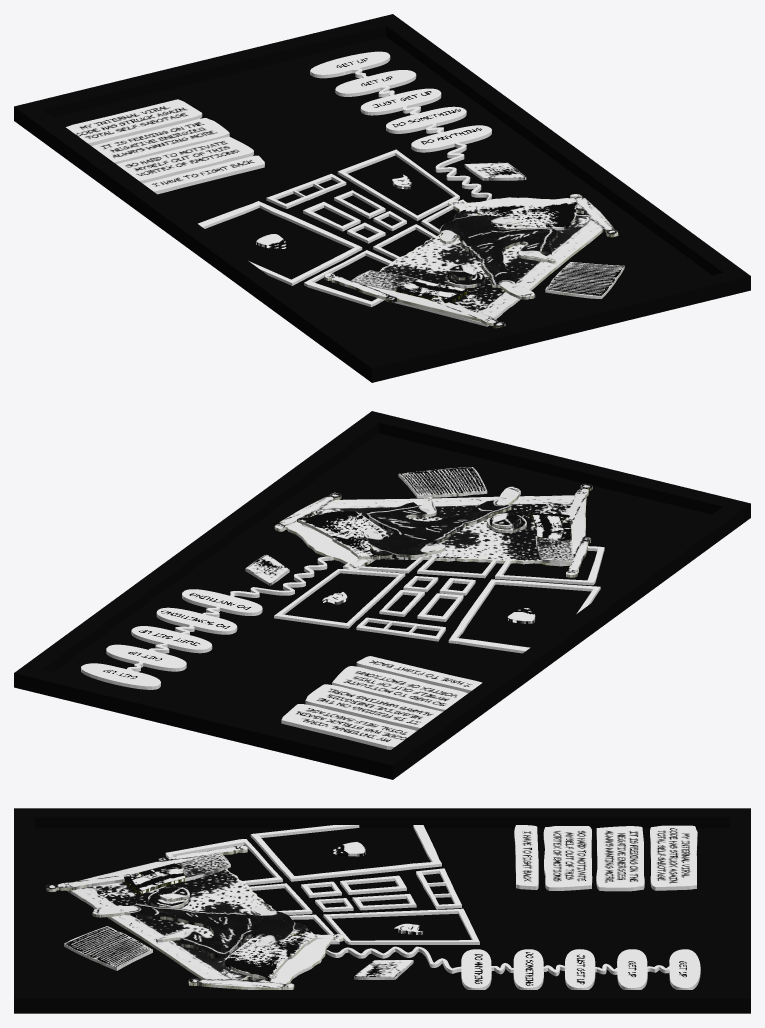
Rendered from Bed.fbx.
The picture shows the model from 3 angles, top to bottom: view 1: azimuth 30°, elevation 25°; view 2: azimuth 150°, elevation 25°; view 3: azimuth 270°, elevation 25°; orthographic projection. The views are drawn at different scales.
Parts seen in each view (by area): view 1: Background, Top Frame, Plane.007, Plane.011, Plane.012, Curve.001, Plane.004, Plane.001, Plane.005, Plane.003, Plane.008, Curve.004 (+6 smaller); view 2: Background, Top Frame, Plane.007, Plane.011, Plane.012, Curve.001, Plane.004, Plane.001, Plane.003, Plane.005, Plane.008, Curve.003 (+6 smaller); view 3: Background, Top Frame, Plane.007, Plane.011, Plane.012, Plane.004, Curve.001, Plane.001, Plane.003, Plane.005, Plane.008, Plane.010 (+8 smaller).
Boxes of the visible parts, x1,y1,x2,y2 form: Background: (14,36,750,382); Top Frame: (14,14,750,379); Plane.007: (379,194,618,326); Plane.011: (198,149,466,306); Plane.012: (69,101,256,188); Curve.001: (310,51,491,200); Plane.004: (439,211,557,299); Plane.001: (321,56,485,145); Plane.005: (545,262,624,298); Plane.003: (460,202,577,230); Plane.008: (324,273,505,328); Curve.004: (117,136,253,183); Background: (14,433,750,779); Top Frame: (14,411,750,776); Plane.007: (274,492,586,570); Plane.011: (274,546,604,653); Plane.012: (288,659,476,744); Curve.001: (81,556,333,689); Plane.004: (363,486,520,558); Plane.001: (97,591,253,682); Plane.003: (297,511,401,559); Plane.005: (398,467,487,498); Plane.008: (563,484,592,577); Curve.003: (305,684,442,730); Background: (14,828,750,1013); Top Frame: (14,808,750,1009); Plane.007: (67,868,343,989); Plane.011: (165,825,479,944); Plane.012: (519,827,693,883); Plane.004: (92,903,306,957); Curve.001: (325,946,700,989); Plane.001: (465,951,691,986); Plane.003: (223,928,317,981); Plane.005: (64,926,152,970); Plane.008: (46,845,247,891); Plane.010: (124,863,185,894).
Bounding box in the file's own units: 51.55 × 1.87 × 84.35.
Materials: 19 (17 with a texture image).
